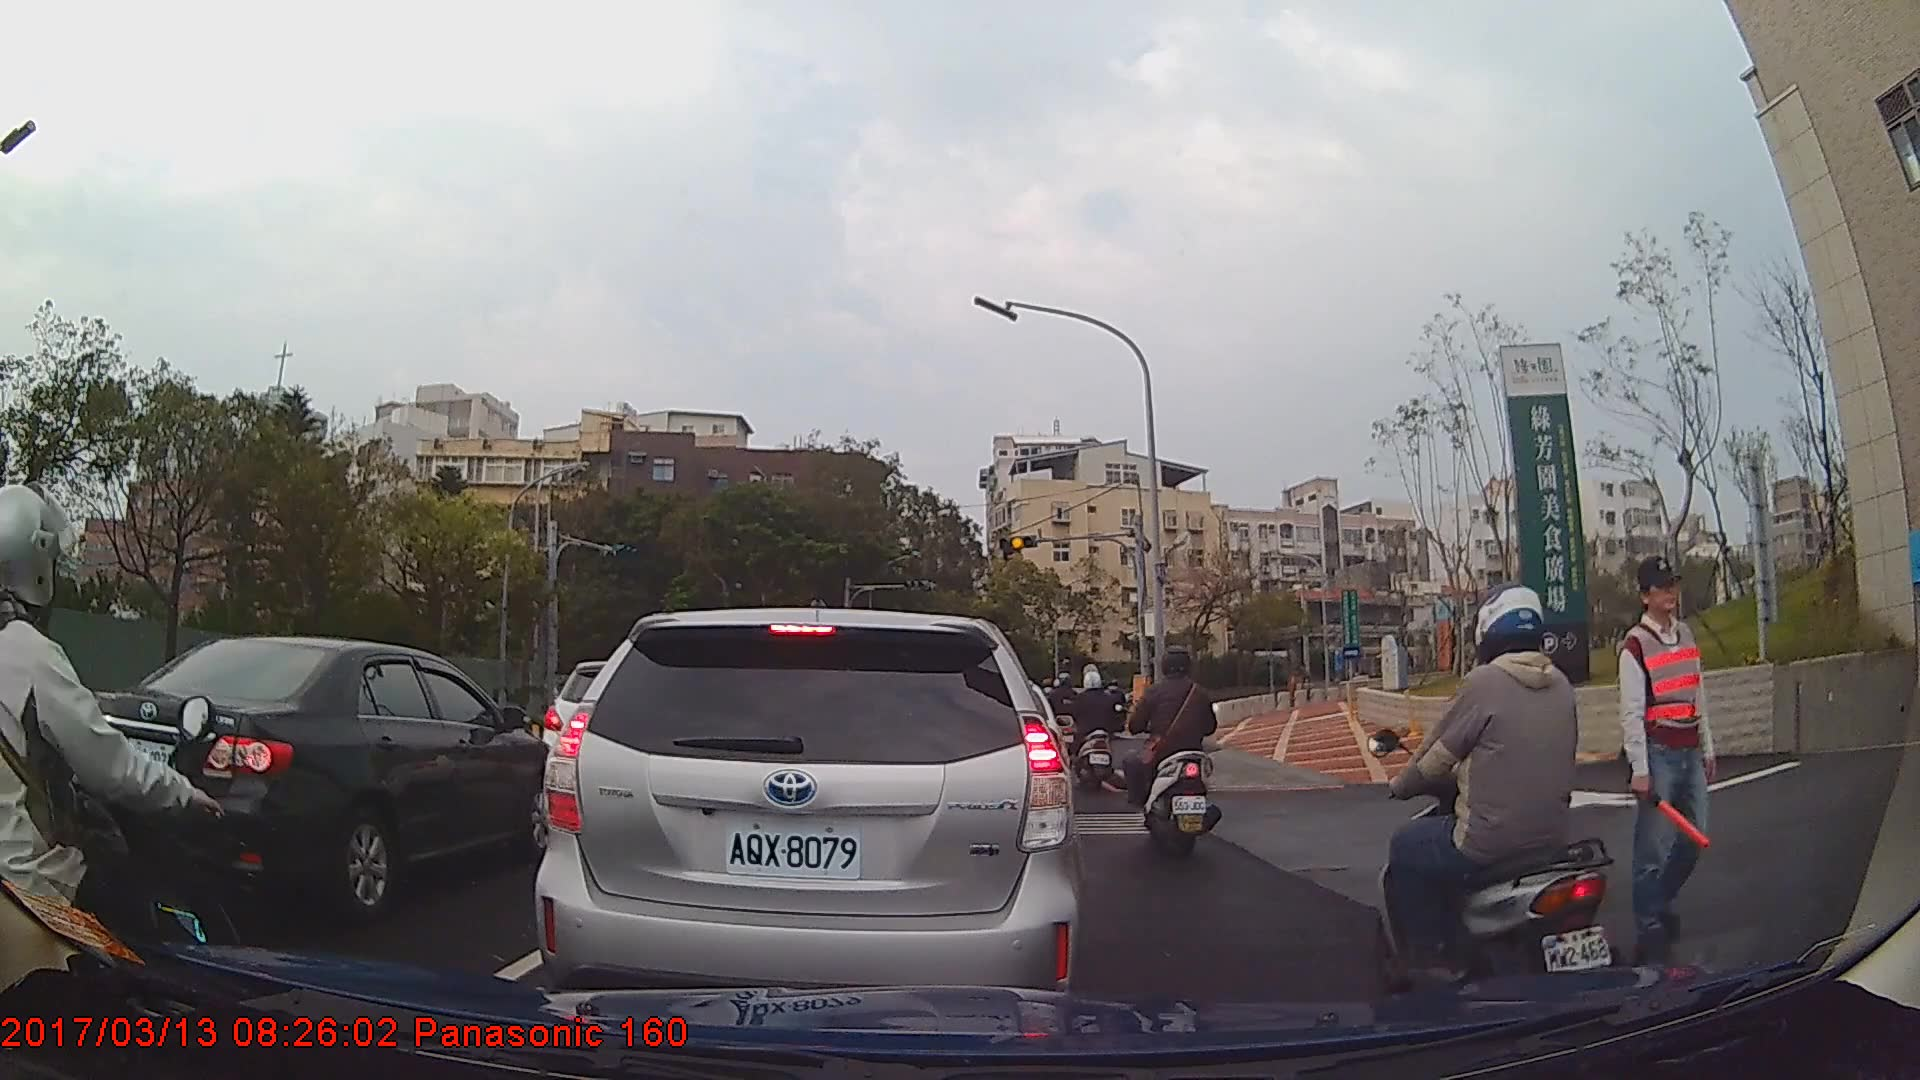pedestrian: (1616, 551, 1724, 953)
rider: (1, 480, 262, 1080), (1372, 583, 1620, 1026), (1123, 648, 1224, 855), (1076, 665, 1125, 797), (1046, 672, 1087, 769)
vehicle: (530, 608, 1082, 1023), (66, 633, 560, 917)
